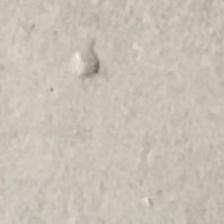Non_Crack: (20, 89, 224, 216)
